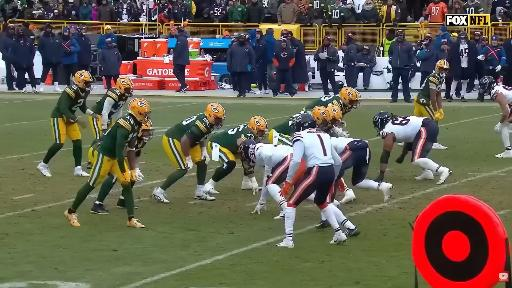Helmet: (128, 98, 150, 123), (205, 103, 225, 128), (248, 116, 268, 140), (292, 114, 316, 132), (340, 87, 360, 108), (374, 112, 392, 135), (312, 106, 330, 129), (74, 70, 93, 91), (239, 139, 256, 162), (479, 76, 495, 97), (138, 120, 154, 141), (327, 104, 342, 126), (116, 77, 133, 96), (435, 60, 449, 76), (458, 30, 468, 40), (336, 81, 344, 89)
Jersey: (98, 115, 141, 158), (165, 113, 214, 146), (292, 129, 334, 167), (51, 84, 89, 121), (211, 124, 254, 154), (250, 144, 293, 173), (380, 116, 426, 142), (92, 88, 127, 119), (273, 109, 311, 135), (305, 95, 351, 115), (419, 73, 444, 100), (305, 95, 341, 109), (490, 86, 511, 105), (332, 138, 356, 154), (135, 137, 146, 156), (460, 42, 468, 67), (135, 138, 146, 156)
Player: (65, 98, 150, 227), (277, 109, 346, 247), (152, 103, 225, 203), (37, 71, 97, 176), (374, 112, 451, 184), (204, 116, 267, 193), (241, 140, 293, 218), (240, 140, 293, 213), (333, 138, 393, 201), (89, 77, 133, 146), (479, 76, 511, 157), (414, 60, 449, 122), (270, 106, 324, 145), (447, 31, 476, 101), (304, 87, 361, 120), (270, 109, 312, 145), (135, 120, 154, 181)
